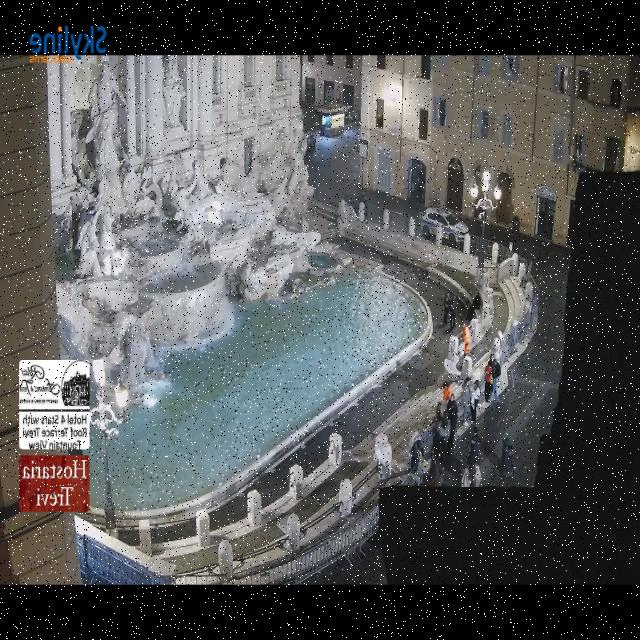person: (433, 412, 449, 457), (446, 396, 457, 450), (424, 457, 442, 487), (410, 437, 424, 474), (466, 426, 479, 465), (461, 377, 471, 427), (460, 464, 480, 487), (467, 295, 480, 323), (484, 357, 492, 402), (492, 359, 500, 402), (471, 380, 479, 422), (468, 464, 480, 488), (461, 322, 469, 356), (443, 292, 450, 325), (434, 402, 444, 423), (442, 382, 451, 405), (450, 296, 456, 330)
